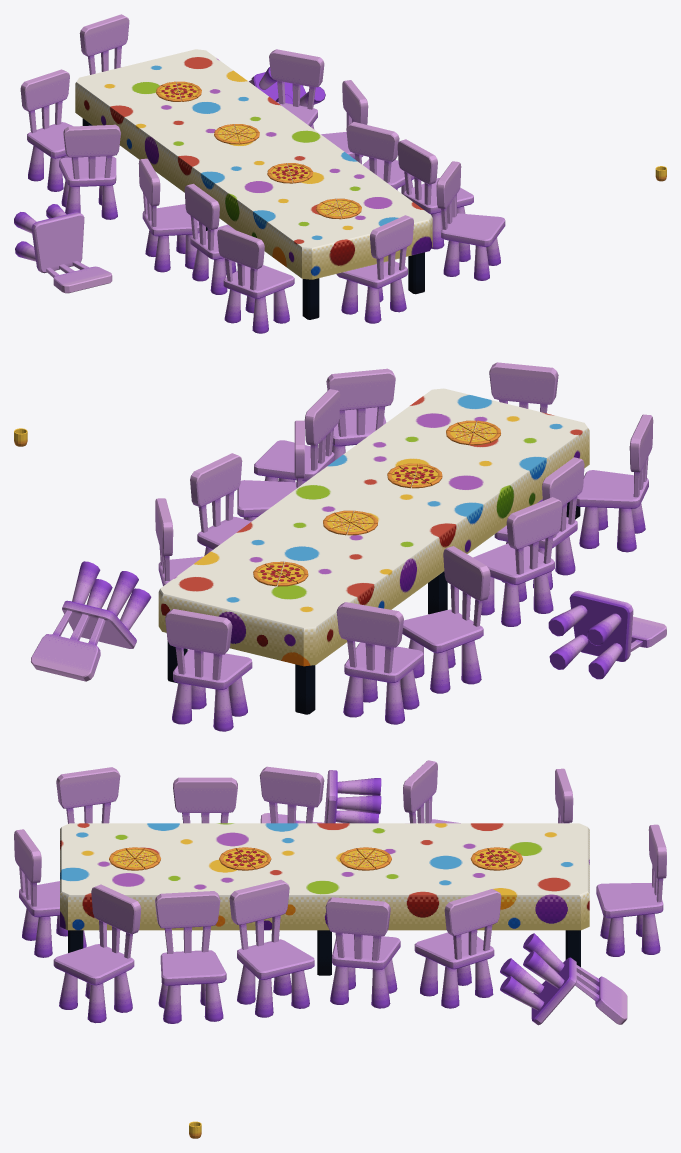
The picture shows the model from 3 angles, top to bottom: view 1: azimuth 30°, elevation 25°; view 2: azimuth 150°, elevation 25°; view 3: azimuth 270°, elevation 25°; orthographic projection. The views are drawn at different scales.
Visible parts, largest first — view 1: Mesa, Silla_8, Silla_11, Silla_12, Silla_7, Silla_6, Silla_13, Silla_10, Silla_9, Silla_5, Silla_2, Silla_4 (+4 smaller); view 2: Mesa, Silla_1, Silla_13, Silla_14, Silla_12, Silla_10, Silla_11, Silla_8, Silla_6, Silla_5, Silla_3, Silla_9 (+7 smaller); view 3: Mesa, Silla_4, Silla_5, Silla_6, Silla_2, Silla_3, Silla_1, Silla_14, Silla_7, Silla_11, Silla_10, Silla_8 (+4 smaller).
Boxes of the visible parts, box(x1,y1,x2,y2) form: Mesa: box(75, 49, 432, 319); Silla_8: box(217, 226, 294, 333); Silla_11: box(14, 204, 112, 293); Silla_12: box(59, 124, 120, 219); Silla_7: box(336, 215, 413, 323); Silla_6: box(436, 161, 505, 280); Silla_13: box(20, 69, 72, 191); Silla_10: box(138, 158, 199, 272); Silla_9: box(184, 183, 236, 294); Silla_5: box(397, 139, 473, 249); Silla_2: box(269, 49, 324, 129); Silla_4: box(346, 122, 414, 194); Mesa: box(158, 388, 589, 714); Silla_1: box(31, 561, 151, 681); Silla_13: box(336, 602, 423, 724); Silla_14: box(165, 609, 252, 731); Silla_12: box(402, 546, 490, 693); Silla_10: box(473, 497, 562, 626); Silla_11: box(548, 590, 666, 679); Silla_8: box(576, 414, 653, 552); Silla_6: box(325, 368, 395, 460); Silla_5: box(254, 389, 340, 483); Silla_3: box(190, 453, 251, 555); Silla_9: box(494, 457, 584, 589); Mesa: box(60, 823, 589, 975); Silla_4: box(229, 879, 314, 1017); Silla_5: box(155, 891, 226, 1023); Silla_6: box(53, 884, 141, 1023); Silla_2: box(414, 889, 501, 1008); Silla_3: box(325, 897, 400, 1008); Silla_1: box(500, 933, 627, 1025); Silla_14: box(596, 824, 666, 956); Silla_7: box(14, 829, 86, 957); Silla_11: box(260, 770, 381, 823); Silla_10: box(259, 766, 324, 823); Silla_8: box(56, 767, 120, 823).
Size of the model in its own units: 543 by 85.23 by 474.
